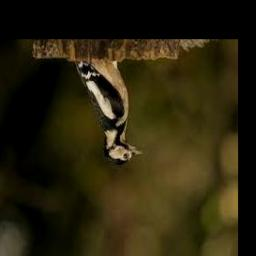Woodpecker: (75, 61, 144, 165)
